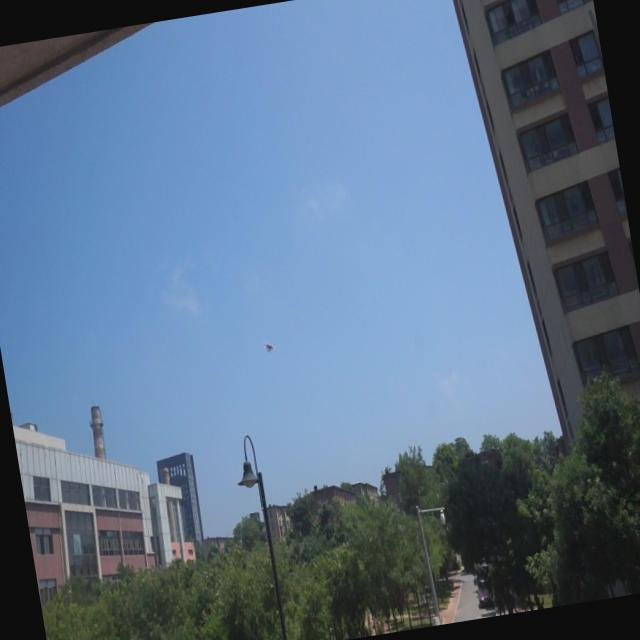drone: (264, 340, 275, 352)
